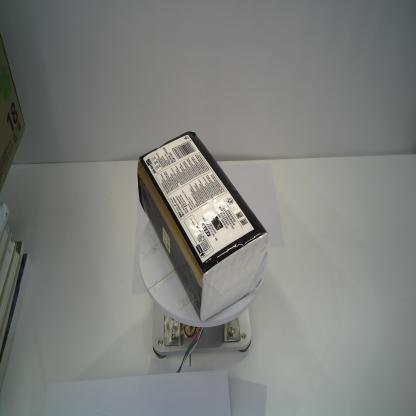Tissue: (135, 127, 270, 324)
